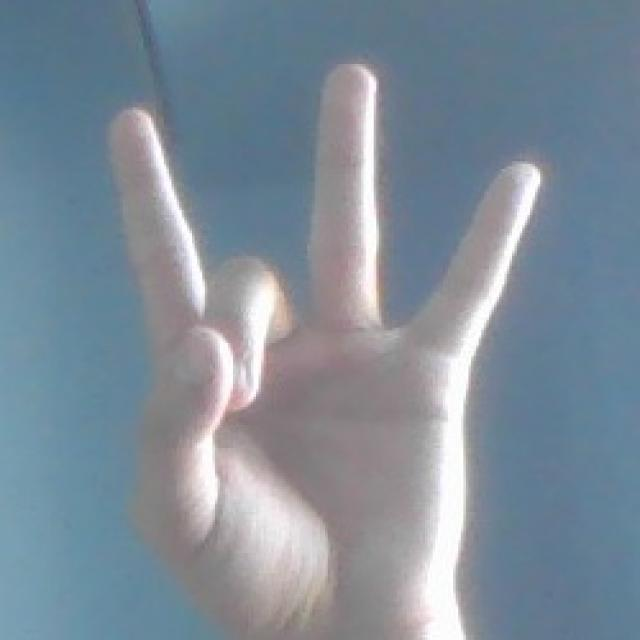Numeric-8: (100, 59, 538, 583)
